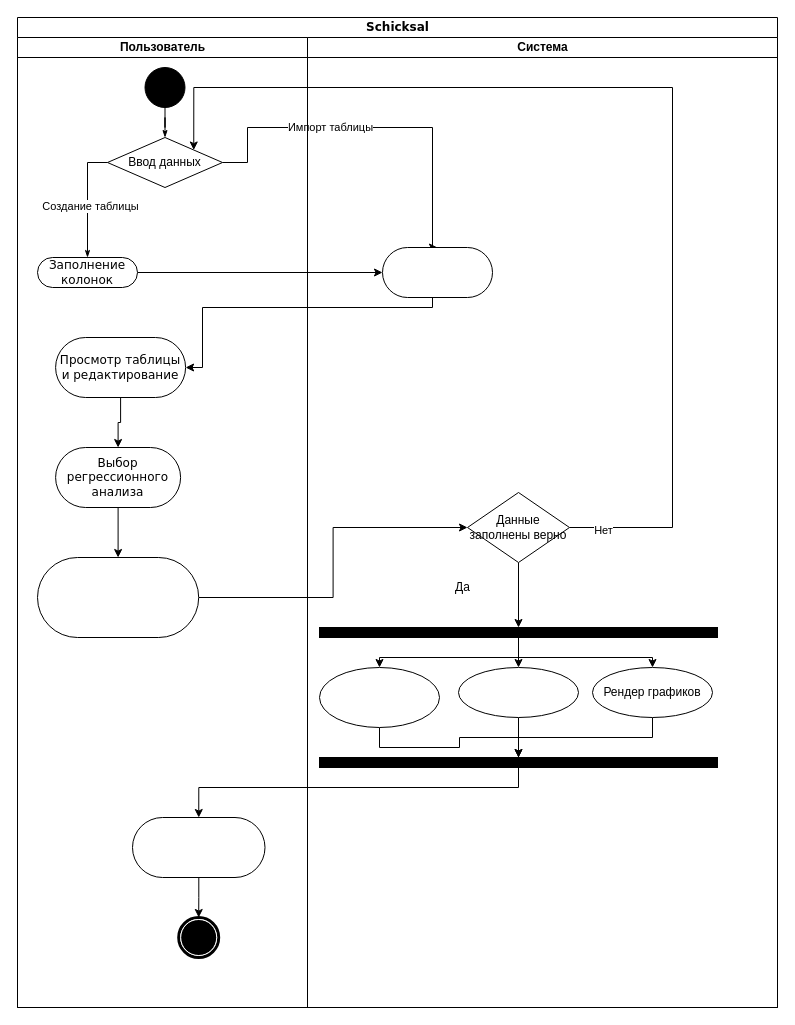
Image size: 795x1025. Some labels were removed from this diagram. Each missing label, with the centre of its shape:
"Заполнение колонок факторов и результатов, выбор уровня значимости" goes at pixel 117 597.
"Просмотр результатов" goes at pixel 198 847.
"Расчет уровня корреляции для каждого фактора" goes at pixel 379 697.
"Рендер табличных данных" goes at pixel 437 272.
"Рендер табличных результатов" goes at pixel 518 692.
